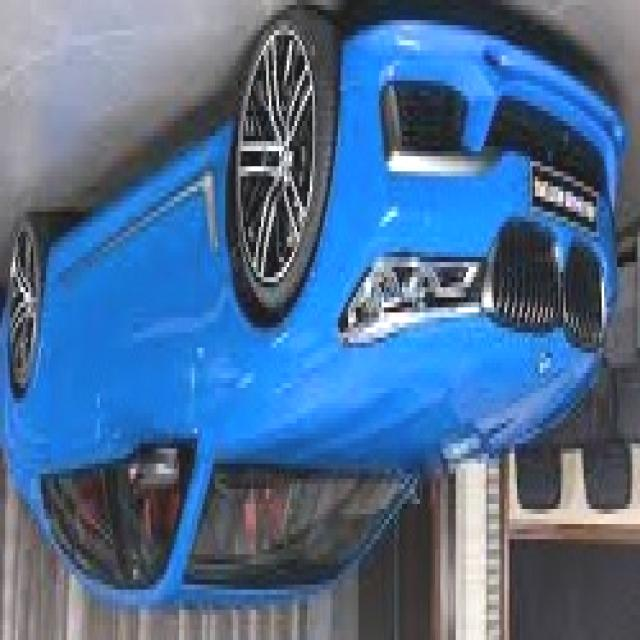blue: (0, 6, 627, 621)
